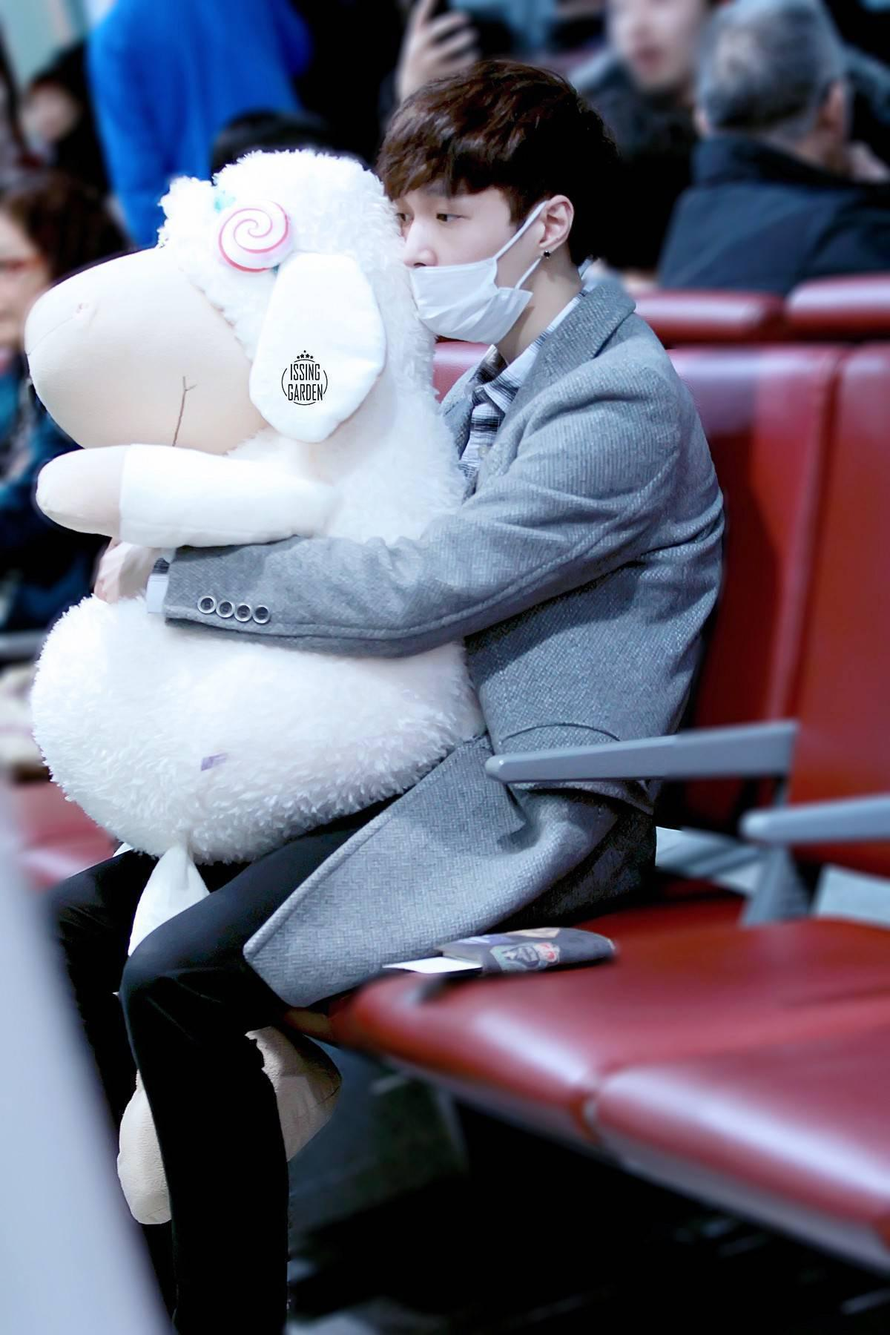NONE: (610, 1, 706, 89)
WRONG: (397, 188, 514, 346)
